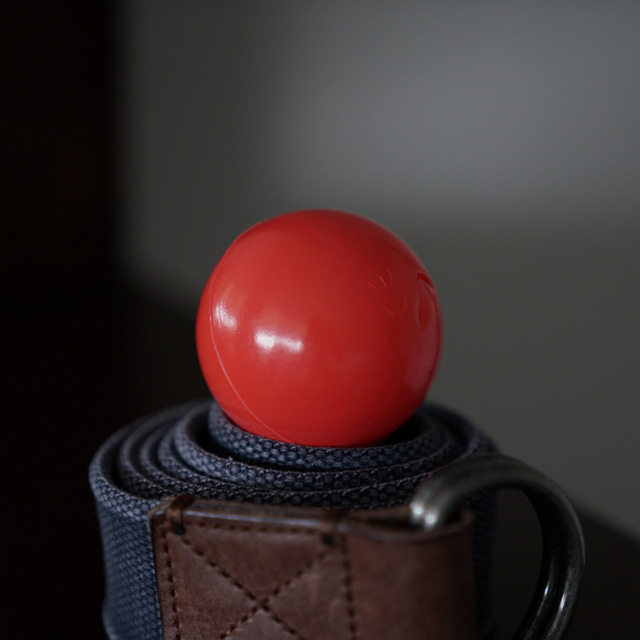Ball: (192, 209, 441, 452)
